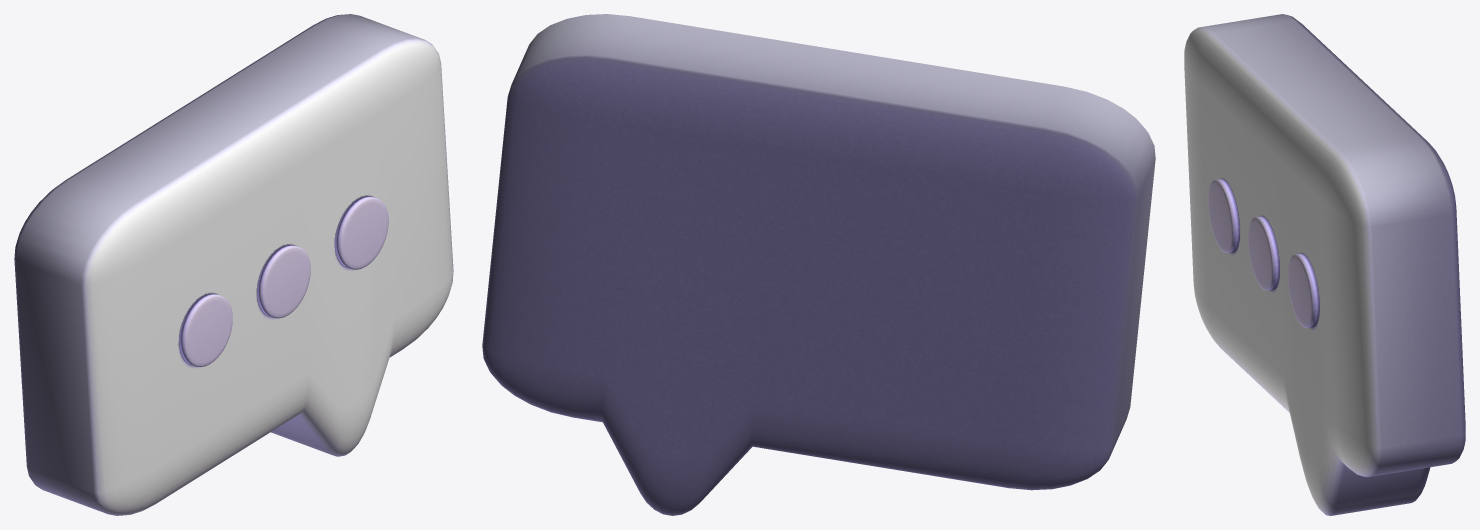
File: speech_bubble.glb
3 renders of one model, left to right at view 1: azimuth 30°, elevation 25°; view 2: azimuth 150°, elevation 25°; view 3: azimuth 270°, elevation 25°, orthographic. The views are drawn at different scales.
Parts seen in each view (by area): view 1: Cylinder.001; view 2: Cylinder.001; view 3: Cylinder.001.
Part boxes in pixels (box(x1,y1,x2,y2)): Cylinder.001: box(14, 14, 453, 515); Cylinder.001: box(482, 14, 1155, 515); Cylinder.001: box(1184, 14, 1465, 515).
Size of the model in its own units: 3.3 by 2.5 by 1.66.
Materials: 1 (1 with a texture image).
